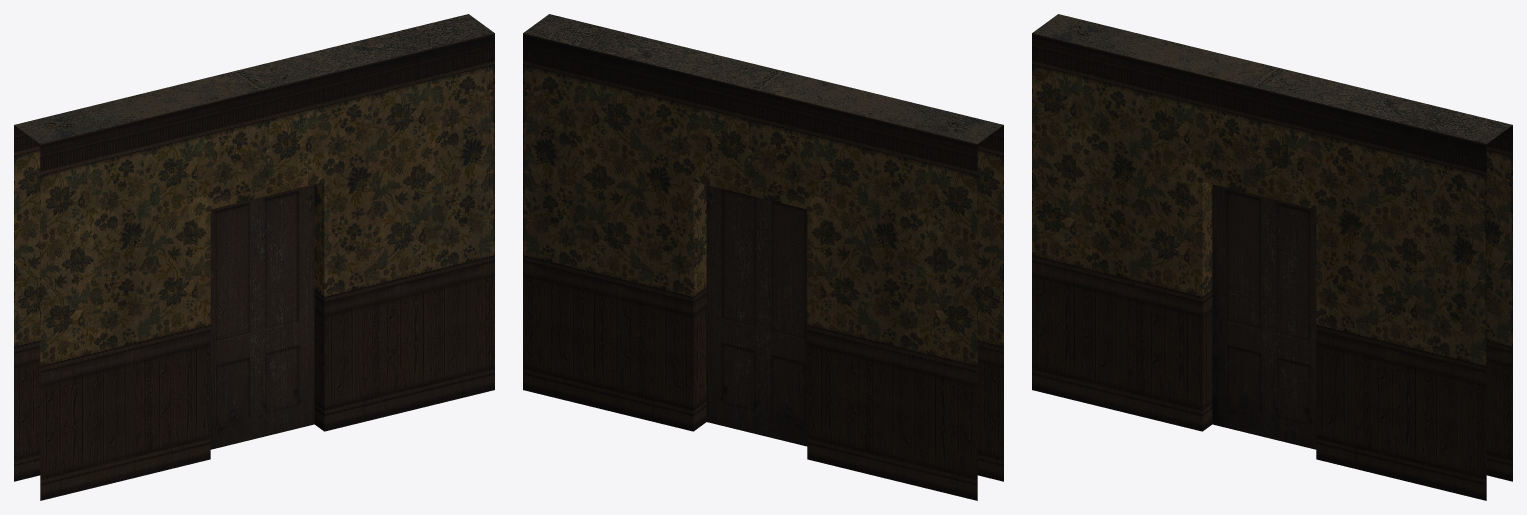
The model's file is doorway_rx_1.glb.
The picture shows the model from 3 angles, left to right: view 1: azimuth 30°, elevation 25°; view 2: azimuth 150°, elevation 25°; view 3: azimuth 330°, elevation 25°; orthographic projection.
Visible parts, largest first — view 1: doorway_rx_1, door_hr_12; view 2: doorway_rx_1, door_hr_12; view 3: doorway_rx_1, door_hr_12.
Boxes of the visible parts, x1,y1,x2,y2 form: doorway_rx_1: (14,14,494,500); door_hr_12: (210,184,314,449); doorway_rx_1: (523,14,1003,500); door_hr_12: (706,185,807,446); doorway_rx_1: (1032,14,1512,500); door_hr_12: (1212,184,1316,449).
Bounding box in the file's own units: 4 × 3 × 0.4.
3 materials, 3 textured.
